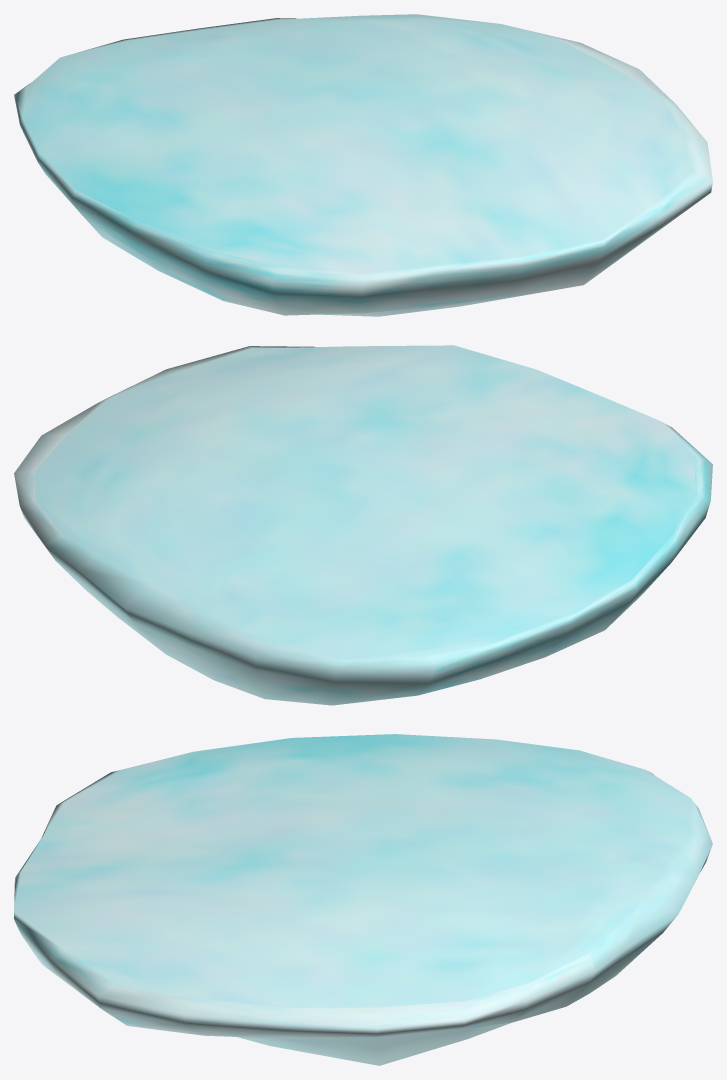
The model's file is BigIce_E.fbx.
3 views of the same model, one above another, from view 1: azimuth 30°, elevation 25°; view 2: azimuth 150°, elevation 25°; view 3: azimuth 270°, elevation 25° (orthographic). The views are drawn at different scales.
Parts seen in each view (by area): view 1: pCube1; view 2: pCube1; view 3: pCube1.
Part boxes in pixels (<box>): pCube1: <box>14,14,712,316</box>; pCube1: <box>14,345,712,705</box>; pCube1: <box>14,734,712,1065</box>.
Size of the model in its own units: 60.52 by 18.6 by 62.35.
Materials: 1 (1 with a texture image).
